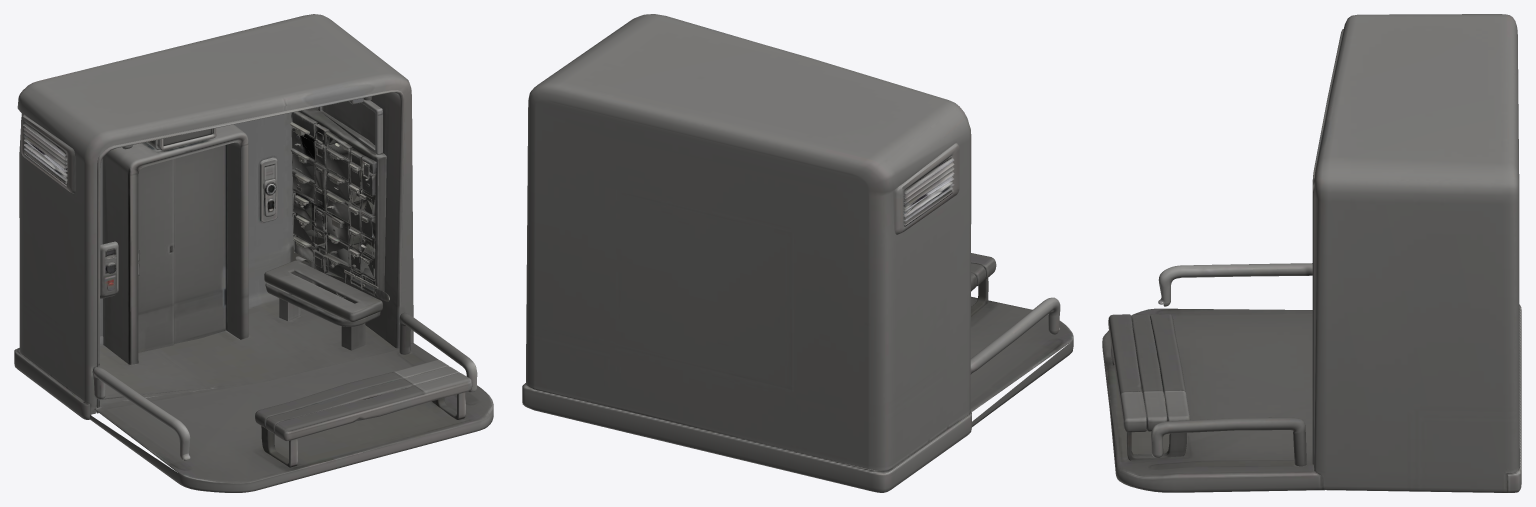
Rendered from toonstudio_elevator_hall.glb.
3 views of the same model, side by side, from view 1: azimuth 30°, elevation 25°; view 2: azimuth 150°, elevation 25°; view 3: azimuth 270°, elevation 25° (orthographic). The views are drawn at different scales.
Parts seen in each view (by area): view 1: tripo_7109d1a4_f812_4b95_bcb5_e11047160338; view 2: tripo_7109d1a4_f812_4b95_bcb5_e11047160338; view 3: tripo_7109d1a4_f812_4b95_bcb5_e11047160338.
Part boxes in pixels (<box>): tripo_7109d1a4_f812_4b95_bcb5_e11047160338: <box>14,14,493,492</box>; tripo_7109d1a4_f812_4b95_bcb5_e11047160338: <box>522,14,1073,492</box>; tripo_7109d1a4_f812_4b95_bcb5_e11047160338: <box>1102,14,1521,492</box>.
Size of the model in its own units: 3.95 by 3.4 by 4.
1 material, 1 textured.
